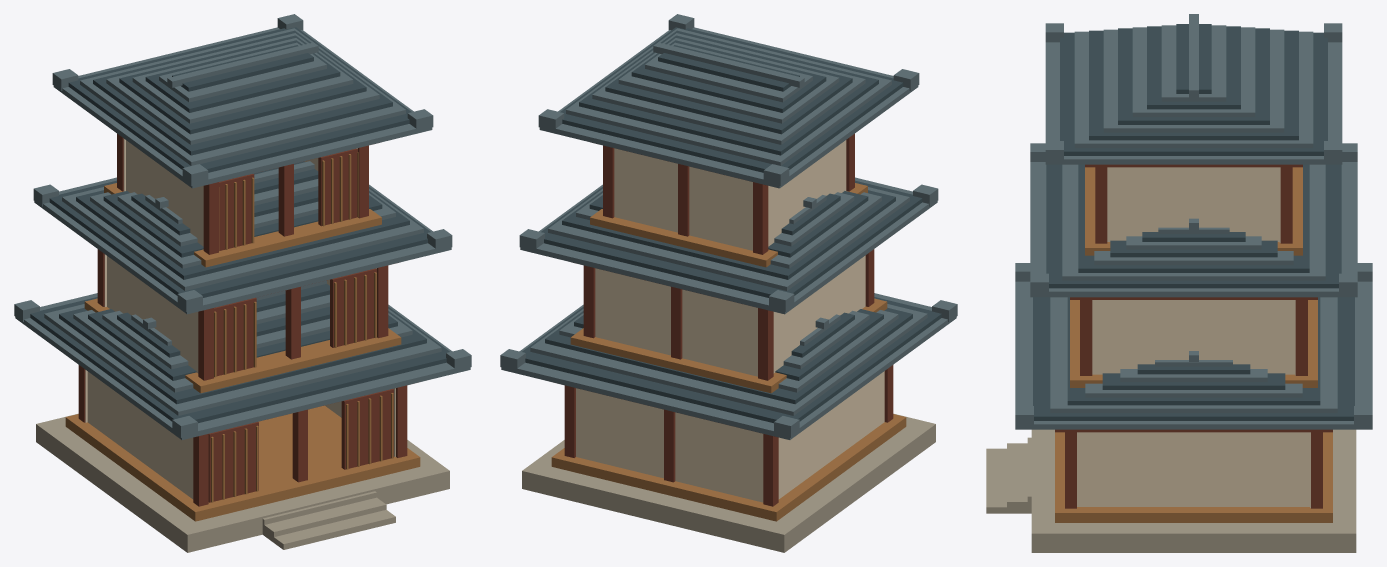
The model's file is demo-heritage-tower.glb.
3 views of the same model, side by side, from view 1: azimuth 30°, elevation 25°; view 2: azimuth 150°, elevation 25°; view 3: azimuth 270°, elevation 25° (orthographic). The views are drawn at different scales.
Visible parts, largest first — view 1: Root_roofLight, Root_roof, Root_wood, Root_beam, Root_stone, Root_wall; view 2: Root_roofLight, Root_wall, Root_roof, Root_stone, Root_beam, Root_wood; view 3: Root_roofLight, Root_roof, Root_wall, Root_stone, Root_beam, Root_wood.
Boxes of the visible parts, x1,y1,x2,y2 form: Root_roofLight: (14,14,471,439); Root_roof: (30,27,449,423); Root_wood: (78,133,407,506); Root_beam: (65,152,420,521); Root_stone: (36,413,449,552); Root_wall: (85,138,395,499); Root_roofLight: (500,14,957,439); Root_wall: (576,140,884,502); Root_roof: (522,27,941,423); Root_stone: (522,413,935,552); Root_beam: (551,183,906,521); Root_wood: (564,133,893,506); Root_roofLight: (1015,14,1372,429); Root_roof: (1033,24,1354,420); Root_wall: (1077,167,1310,507); Root_stone: (986,429,1356,552); Root_beam: (1055,167,1332,522); Root_wood: (1055,164,1332,508).
Size of the model in its own units: 7.75 by 10.28 by 8.32.
